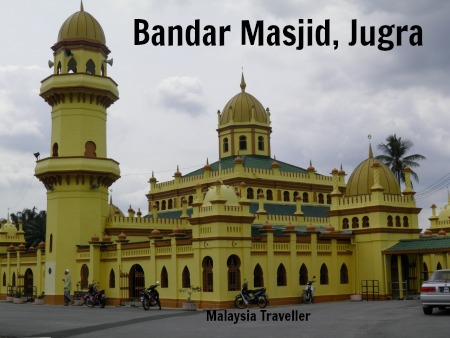Mosque: (23, 9, 408, 298)
